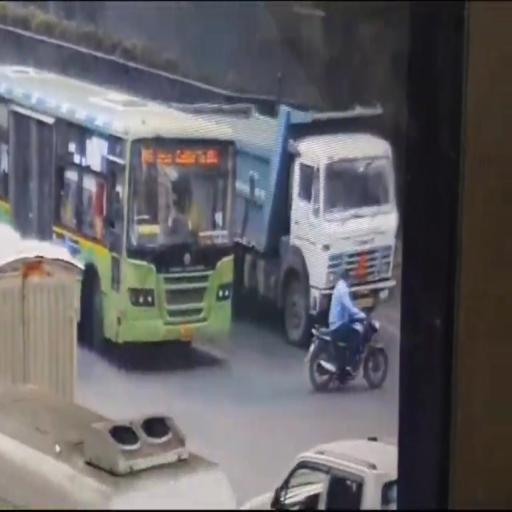小汽车: (2, 70, 241, 354), (231, 102, 397, 330)
自行车: (307, 272, 387, 388)
